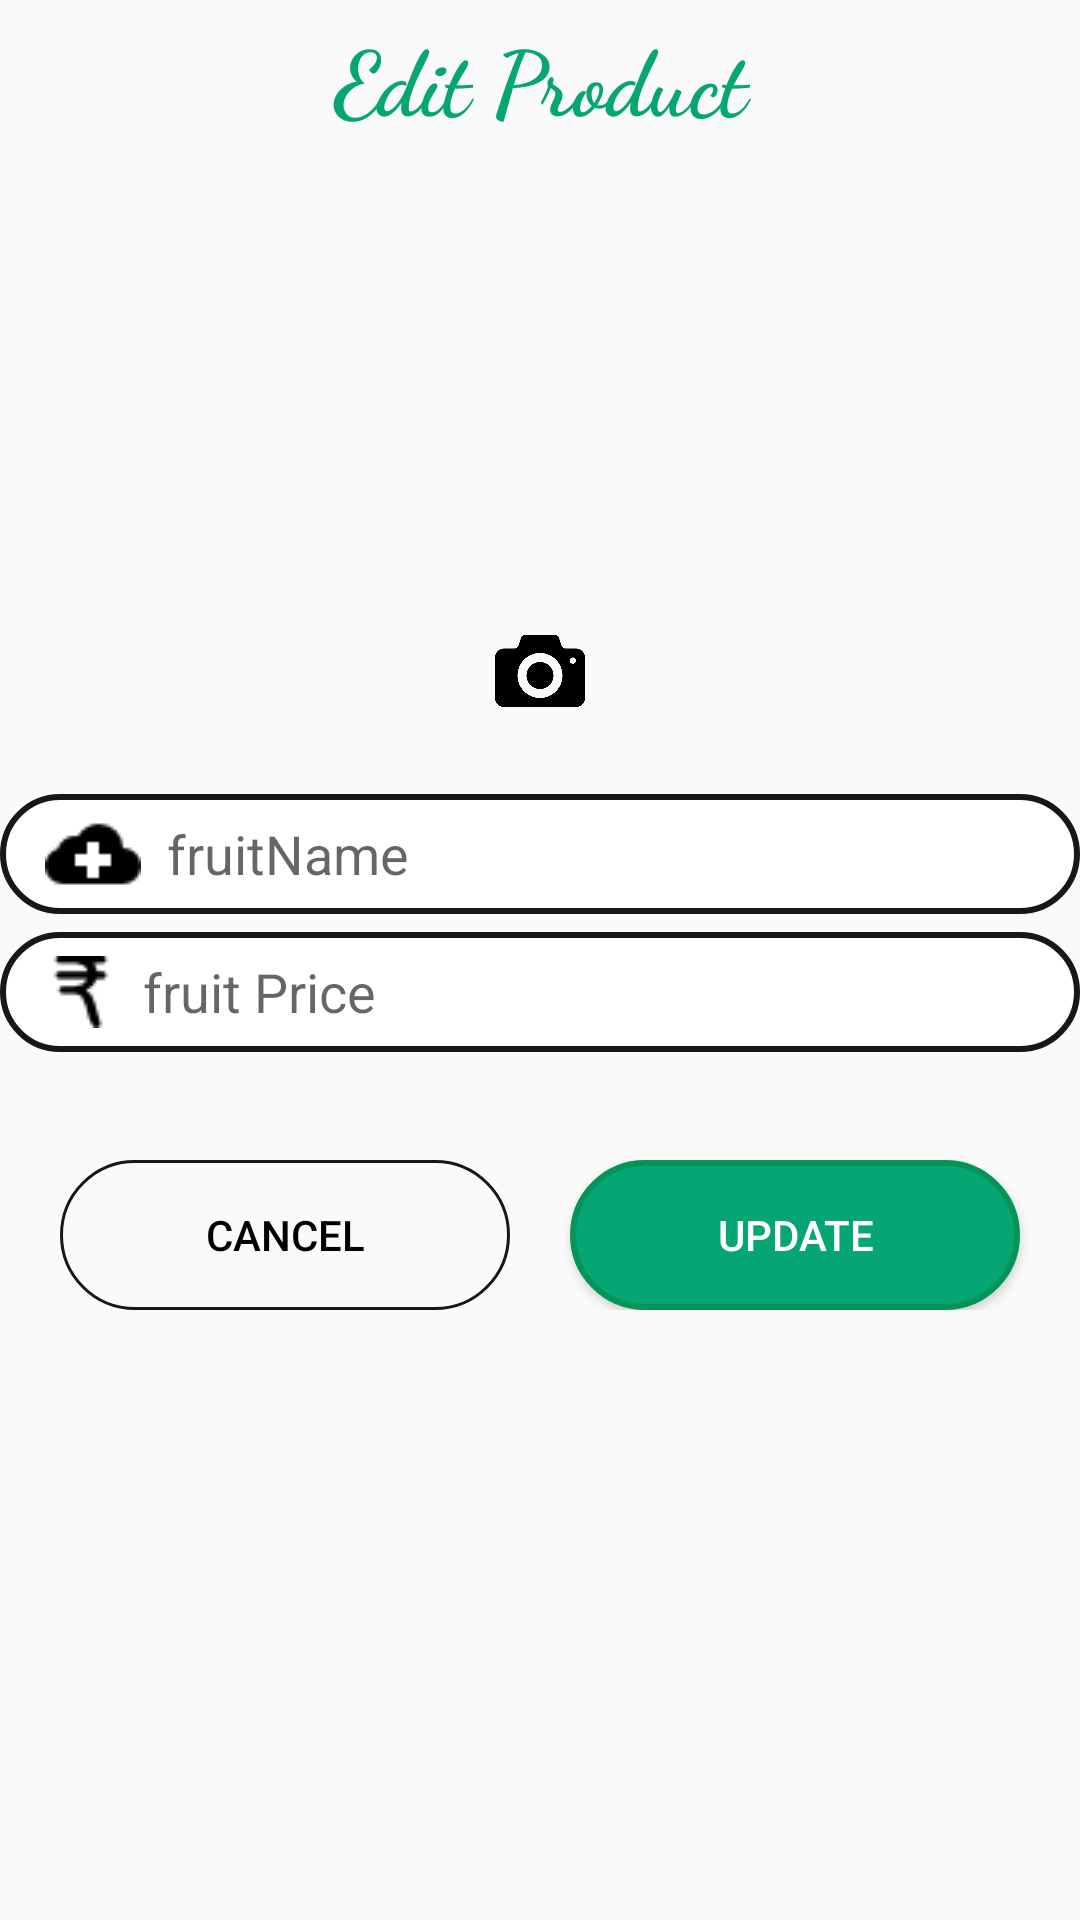

Screen size 1080px x 1920px. Icon name, then its box in pixels as (x1, y1, x2, y2):
camera: (495, 635, 585, 707)
